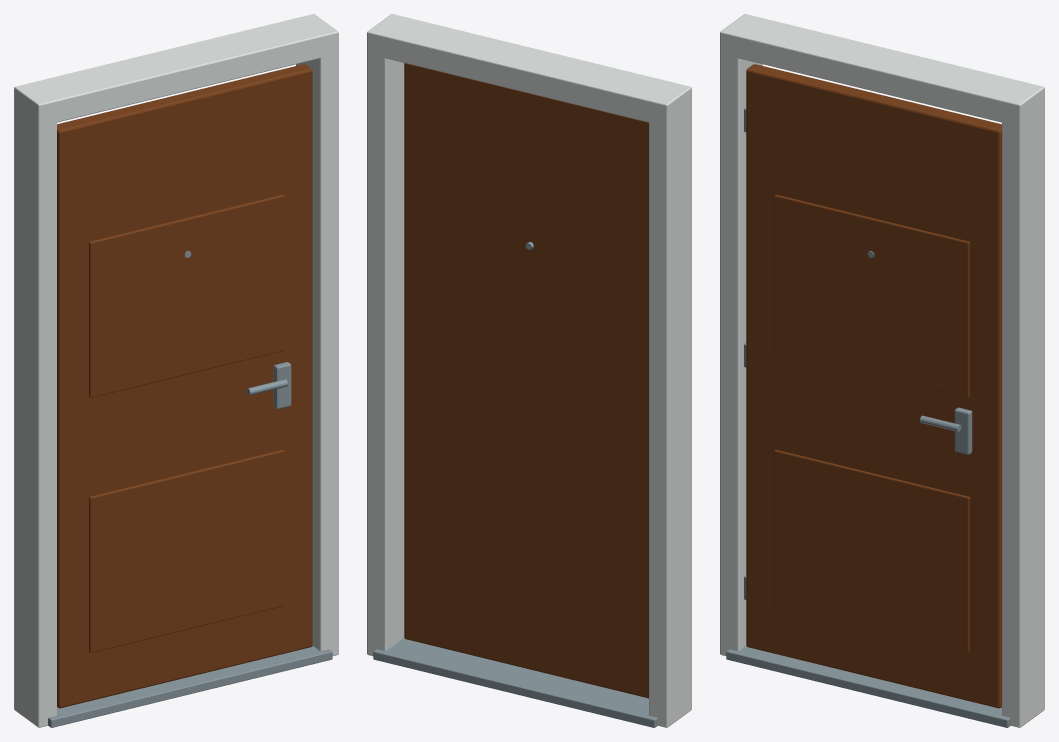
3 renders of one model, left to right at view 1: azimuth 30°, elevation 25°; view 2: azimuth 150°, elevation 25°; view 3: azimuth 330°, elevation 25°, orthographic.
Parts seen in each view (by area): view 1: DOOR_Leaf, DOOR_Inset, DOOR_Inset.001, FRAME_Jamb, FRAME_Jamb.001, FRAME_Header, THRESHOLD, HANDLE_Plate; view 2: DOOR_Leaf, FRAME_Jamb, FRAME_Jamb.001, FRAME_Header, THRESHOLD; view 3: DOOR_Leaf, DOOR_Inset, DOOR_Inset.001, FRAME_Jamb.001, FRAME_Jamb, FRAME_Header, THRESHOLD, HANDLE_Plate.
Part boxes in pixels (<box>): DOOR_Leaf: <box>57,64,312,708</box>; DOOR_Inset: <box>89,449,284,652</box>; DOOR_Inset.001: <box>89,194,284,397</box>; FRAME_Jamb: <box>14,86,56,727</box>; FRAME_Jamb.001: <box>296,14,338,655</box>; FRAME_Header: <box>14,14,338,126</box>; THRESHOLD: <box>48,646,332,727</box>; HANDLE_Plate: <box>273,362,291,409</box>; DOOR_Leaf: <box>404,63,648,698</box>; FRAME_Jamb: <box>649,87,691,727</box>; FRAME_Jamb.001: <box>367,14,404,655</box>; FRAME_Header: <box>367,14,691,126</box>; THRESHOLD: <box>373,638,657,727</box>; DOOR_Leaf: <box>746,64,1001,708</box>; DOOR_Inset: <box>774,449,969,652</box>; DOOR_Inset.001: <box>774,194,969,397</box>; FRAME_Jamb.001: <box>1002,83,1044,727</box>; FRAME_Jamb: <box>720,14,762,655</box>; FRAME_Header: <box>720,14,1044,126</box>; THRESHOLD: <box>726,646,1010,727</box>; HANDLE_Plate: <box>954,407,972,454</box>.
Bounding box in the file's own units: 1.11 × 2.2 × 0.217.
